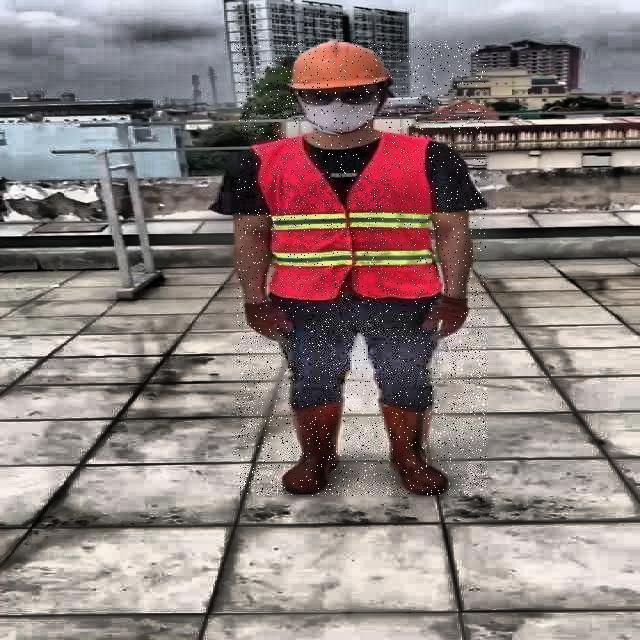safety_helmet: (288, 41, 392, 93)
safety_jacket: (256, 136, 437, 298)
